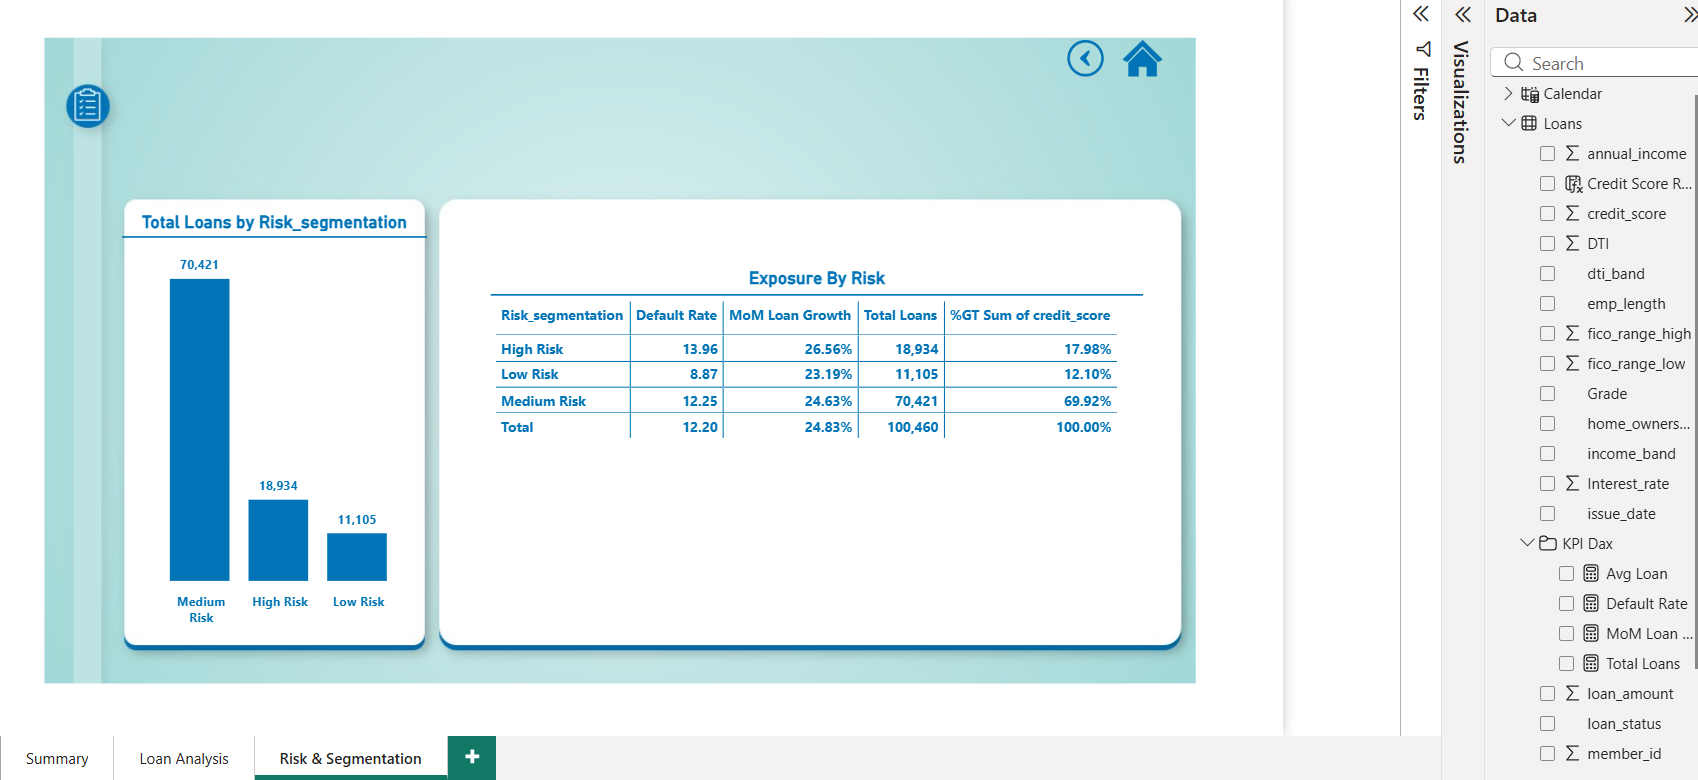

The dashboard page shown, as its layout file describes it:
{"tool":"powerbi","page":{"name":"Risk & Segmentation","canvas":[1280,720],"ordinal":2},"visuals":[{"type":"columnChart","fields":{"Category":["Loans .Risk_segmentation"],"Y":["Loans .Total Loans"]},"box":[159.3,213.5,294.4,407.8],"z":0},{"type":"pivotTable","title":"Exposure By Risk","fields":{"Rows":["Loans .Risk_segmentation"],"Values":["Loans .Default Rate","Loans .MoM Loan Growth","Loans .Total Loans","Sum(Loans .credit_score)"]},"box":[514.9,267.6,629.7,186.5],"z":1000},{"type":"image","box":[1055.6,48.3,67.6,35],"z":2000},{"type":"image","box":[1108.7,48.3,71.2,35],"z":3000}]}

Visuals, with their boxes on the page's 1280x720 design canvas (x1, y1, x2, y2). These are canvas units, not pixel positions in the 1698x780 screenshot, which may show the page scaled, cropped or inside an application window:
columnChart - Loans .Risk_segmentation x Loans .Total Loans: 159, 214, 454, 621
"Exposure By Risk" pivotTable: 515, 268, 1145, 454
image: 1056, 48, 1123, 83
image: 1109, 48, 1180, 83
